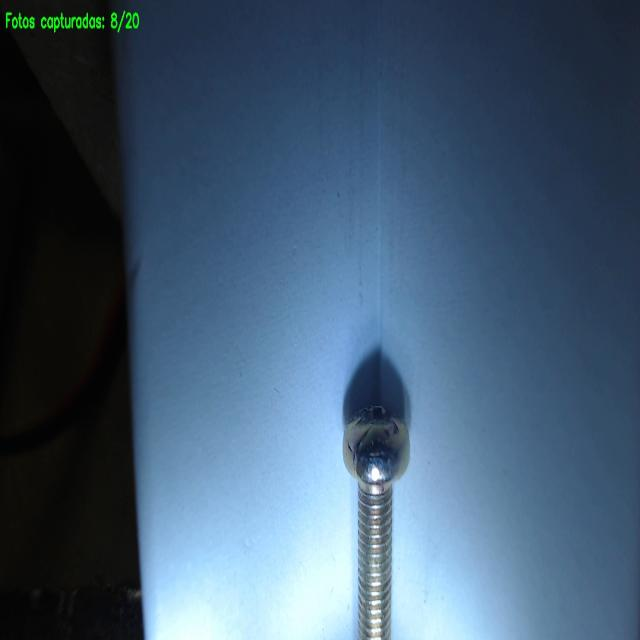vastago: (358, 491, 392, 639)
